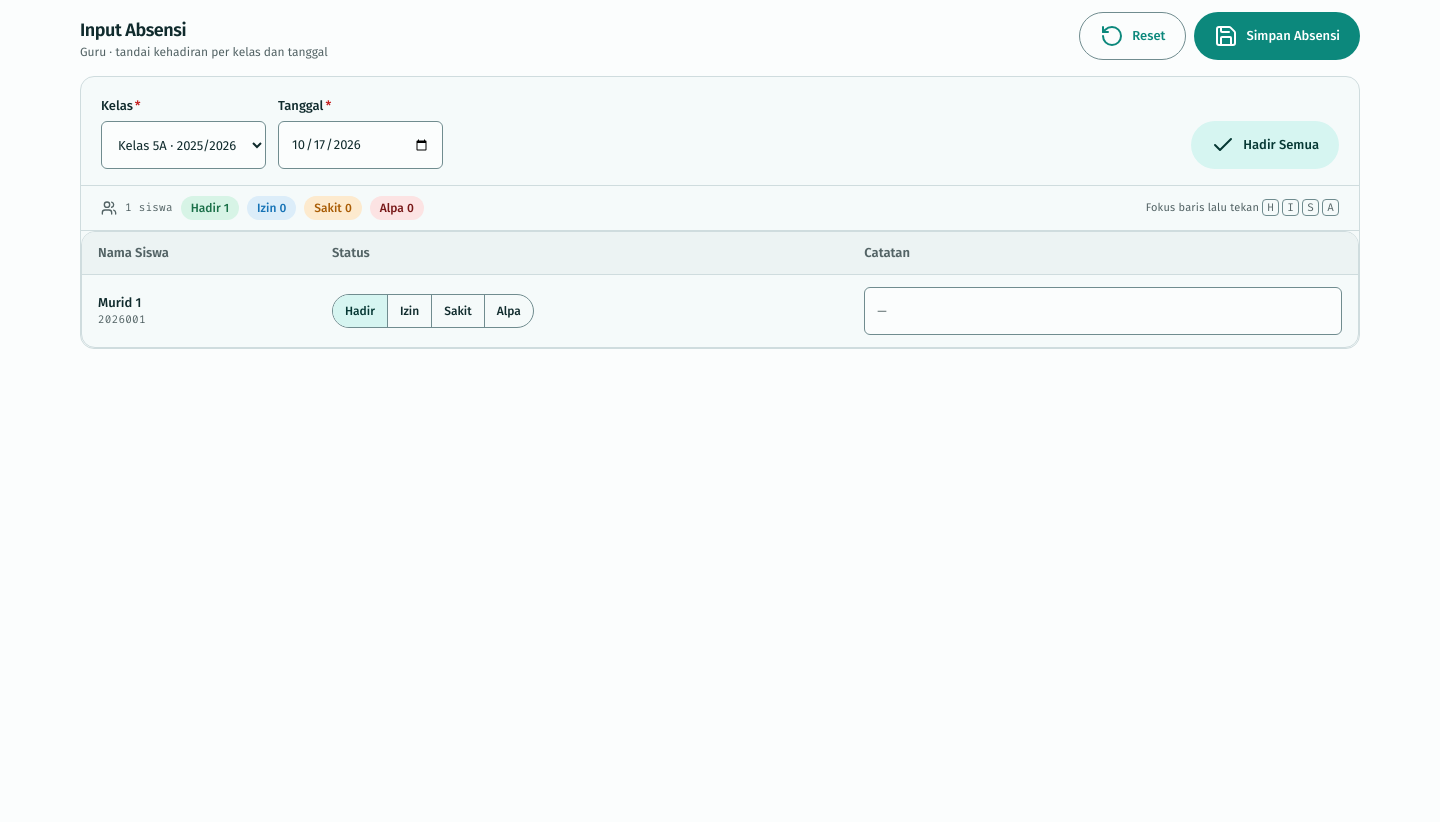
AbsensiPage › surfaces an API error when the bulk save fails
Expected: the text "Murid 1" is shown, x1=98 y1=295 x2=141 y2=310
Click the radio button labelled "Alpa": (508, 311) x1=484 y1=295 x2=533 y2=327
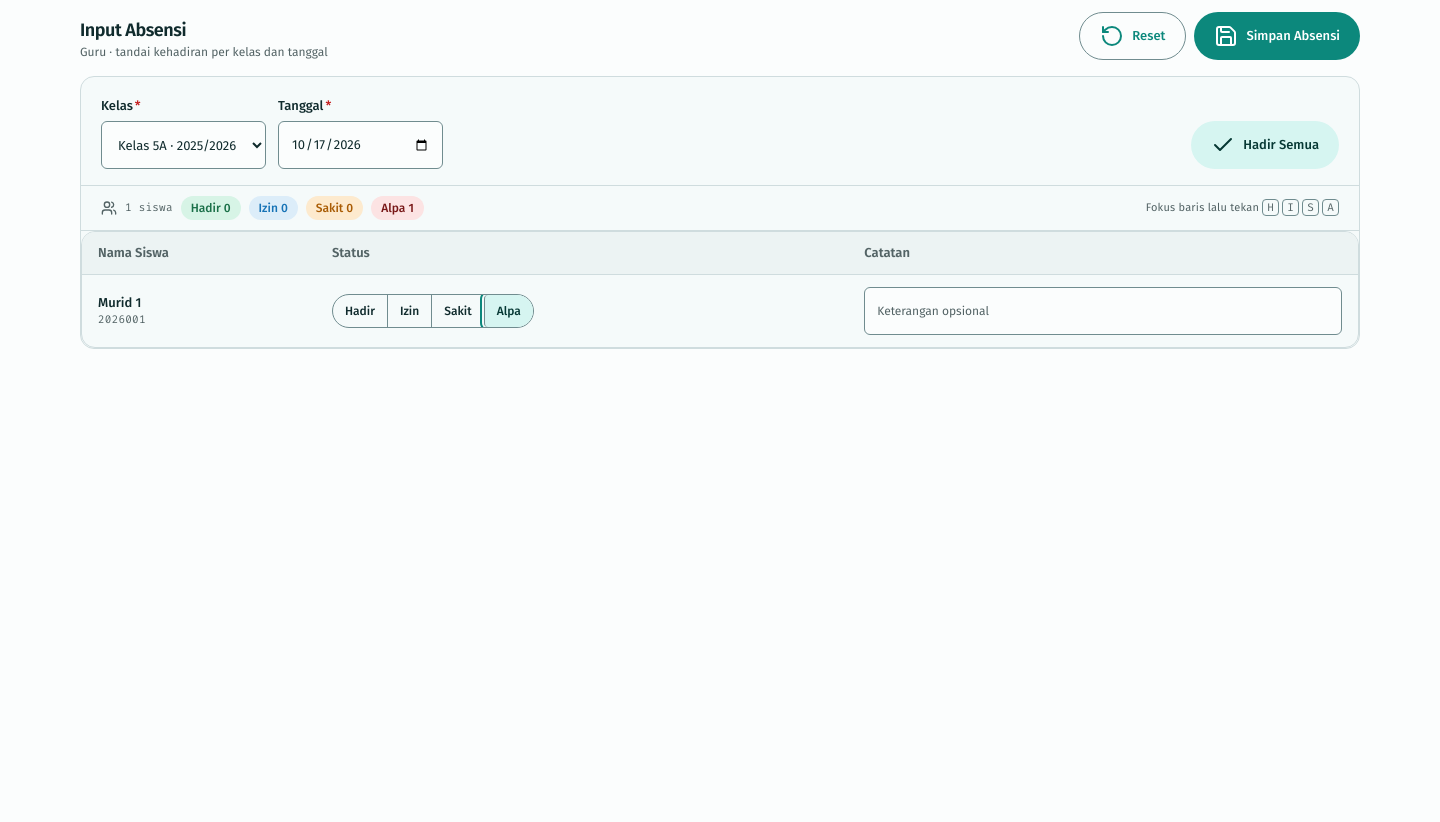
Click the button "Simpan Absensi": (1277, 36) x1=1194 y1=12 x2=1360 y2=60
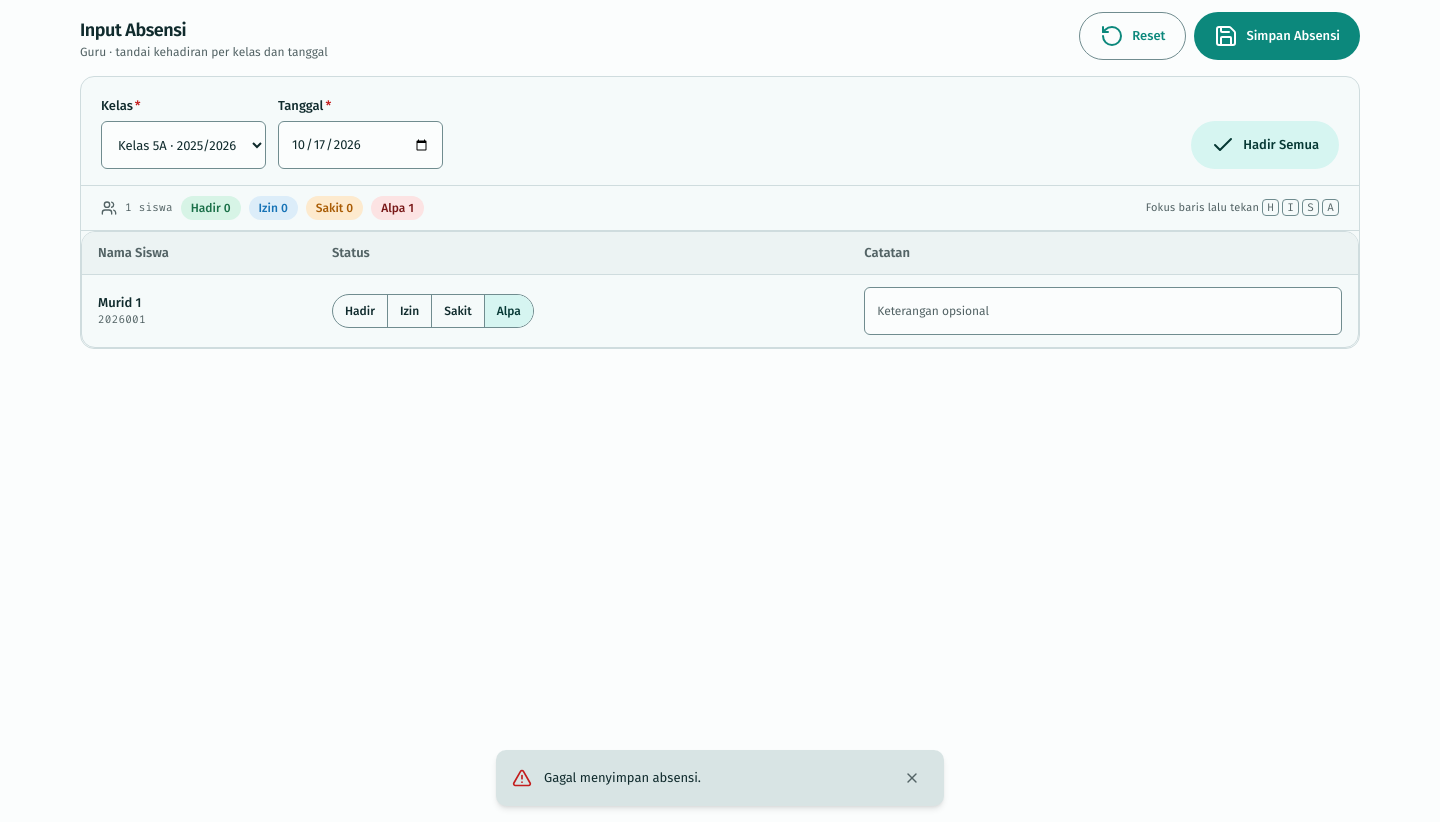
Result: the text "Gagal menyimpan absensi." is shown at x1=544 y1=770 x2=701 y2=785
